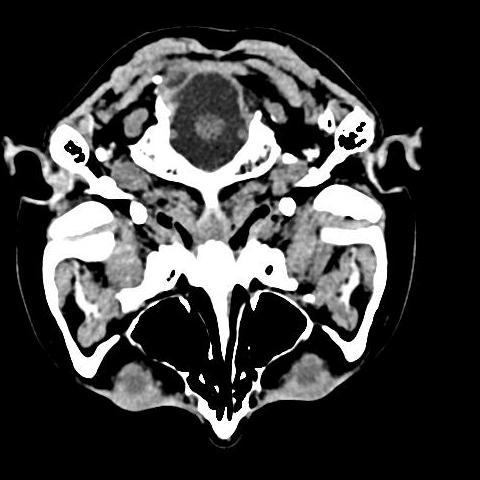Normal_Brain: (1, 17, 480, 471)
